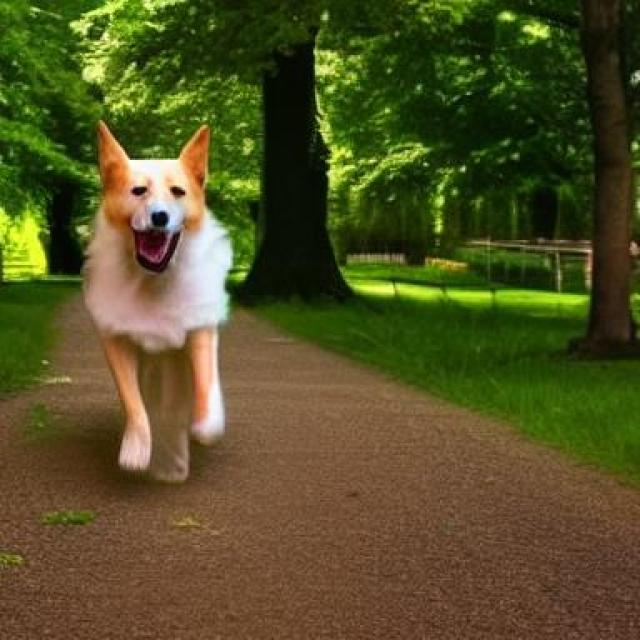Dog: (82, 120, 234, 484)
